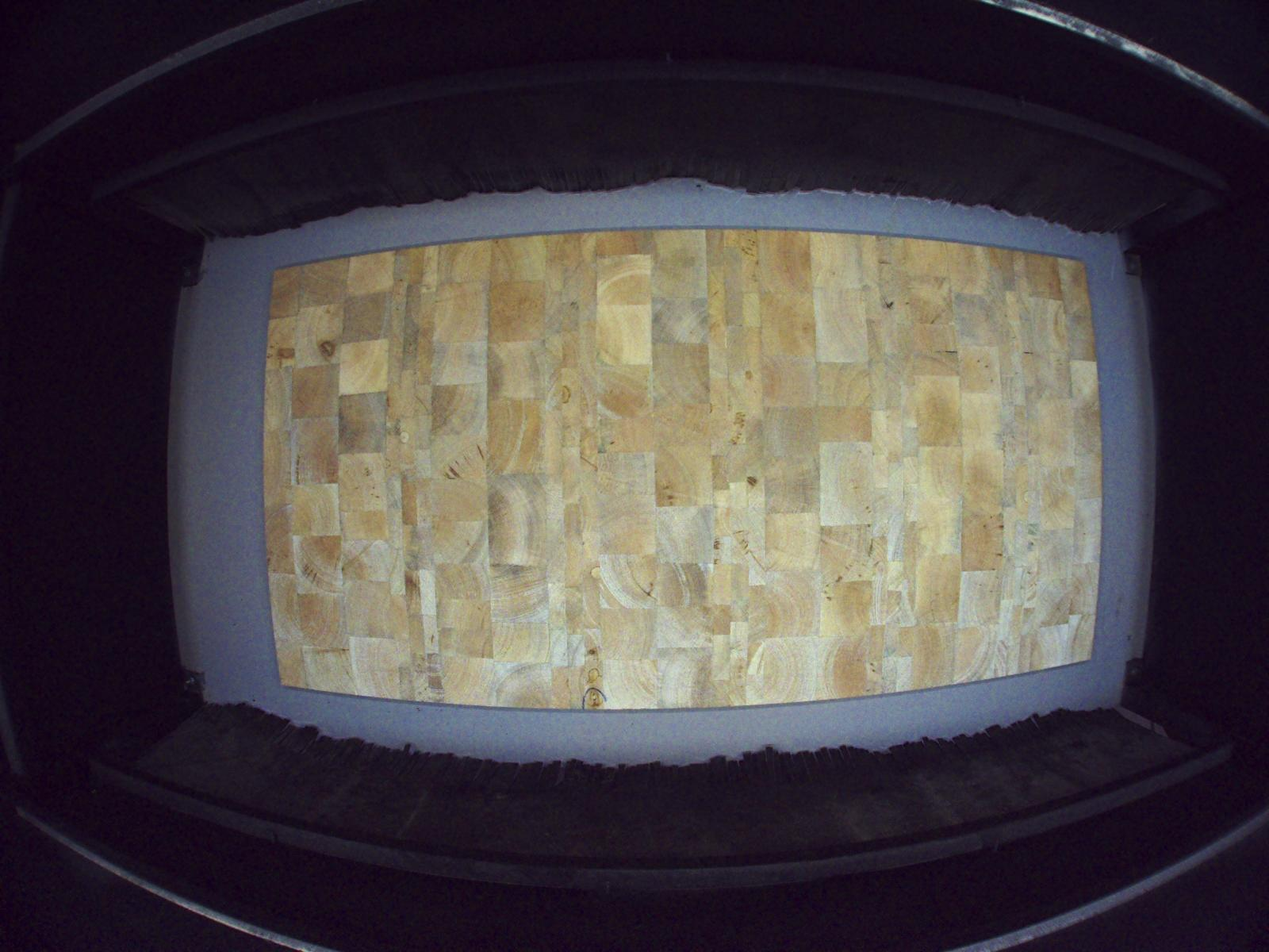nudillo: (585, 687, 603, 708)
